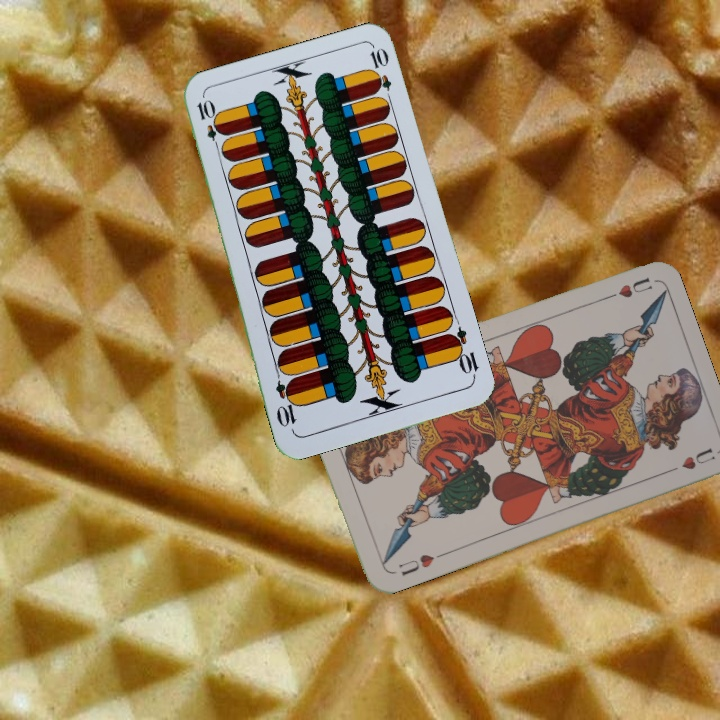E10: (444, 323, 481, 381), (193, 96, 225, 154)
HU: (598, 273, 655, 304), (394, 550, 437, 579)
